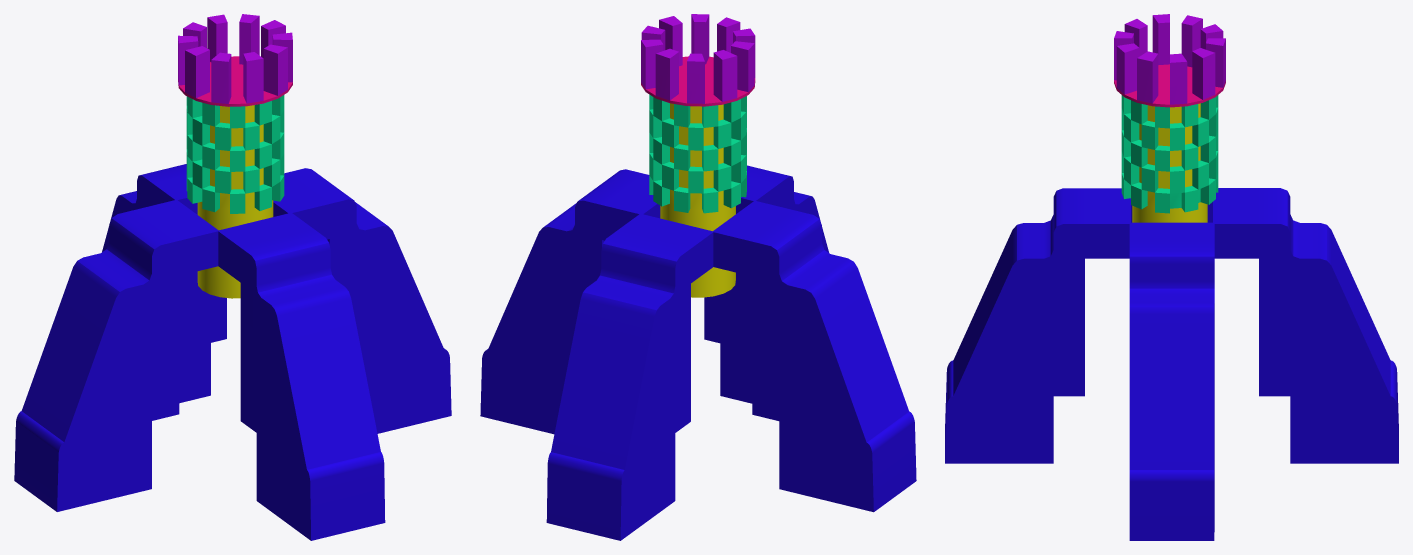
The model's file is Terraformer2.fbx.
3 renders of one model, left to right at view 1: azimuth 30°, elevation 25°; view 2: azimuth 150°, elevation 25°; view 3: azimuth 270°, elevation 25°, orthographic.
Parts seen in each view (by area): view 1: pCylinder106; view 2: pCylinder106; view 3: pCylinder106.
Boxes of the visible parts, bbox=[...] form: pCylinder106: bbox=[14, 14, 451, 540]; pCylinder106: bbox=[480, 14, 916, 540]; pCylinder106: bbox=[945, 14, 1398, 540].
Bounding box in the file's own units: 516 × 513 × 518.
